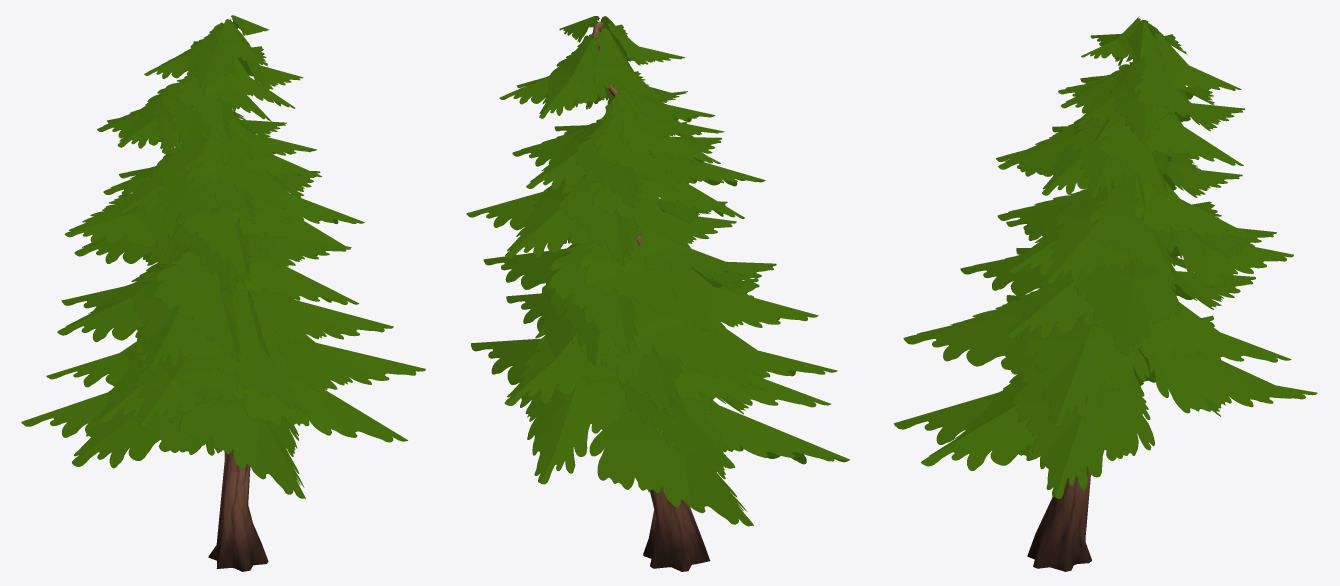
File: Pine_5.glb
The picture shows the model from 3 angles, left to right: view 1: azimuth 30°, elevation 25°; view 2: azimuth 150°, elevation 25°; view 3: azimuth 270°, elevation 25°; orthographic projection. The views are drawn at different scales.
Bounding box in the file's own units: 6.42 × 8.72 × 6.22.
2 materials, 2 textured.
